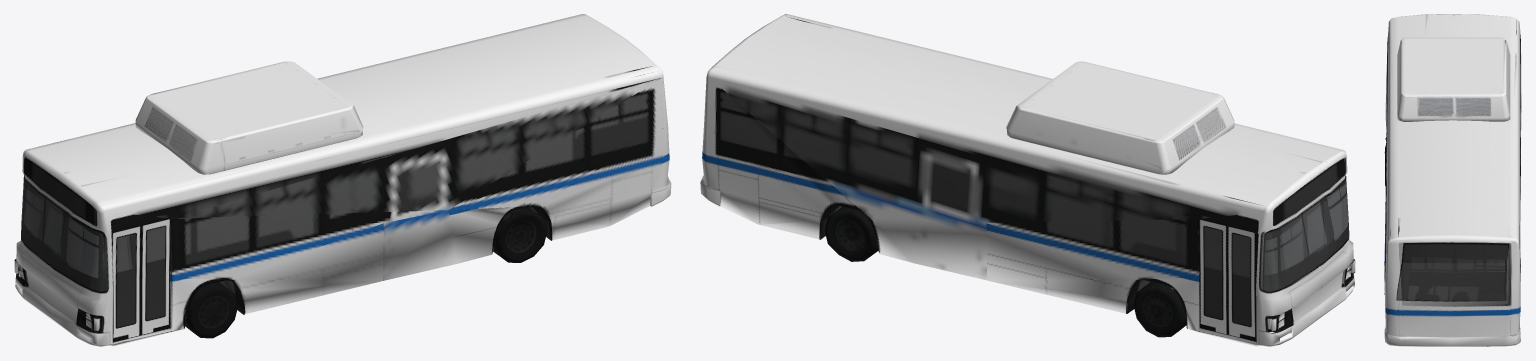
The model's file is city-bus.glb.
3 renders of one model, left to right at view 1: azimuth 30°, elevation 25°; view 2: azimuth 150°, elevation 25°; view 3: azimuth 270°, elevation 25°, orthographic. The views are drawn at different scales.
Bounding box in the file's own units: 0.9536 × 0.2925 × 0.2373.
1 material, 1 textured.
